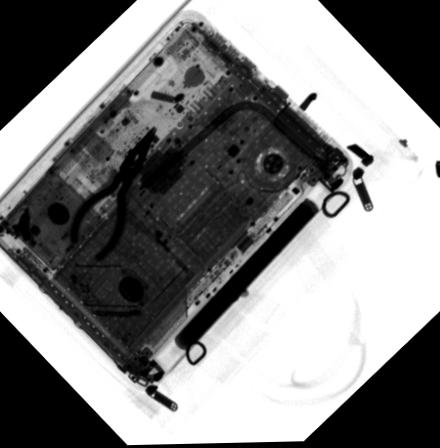Pliers: (64, 123, 159, 264)
